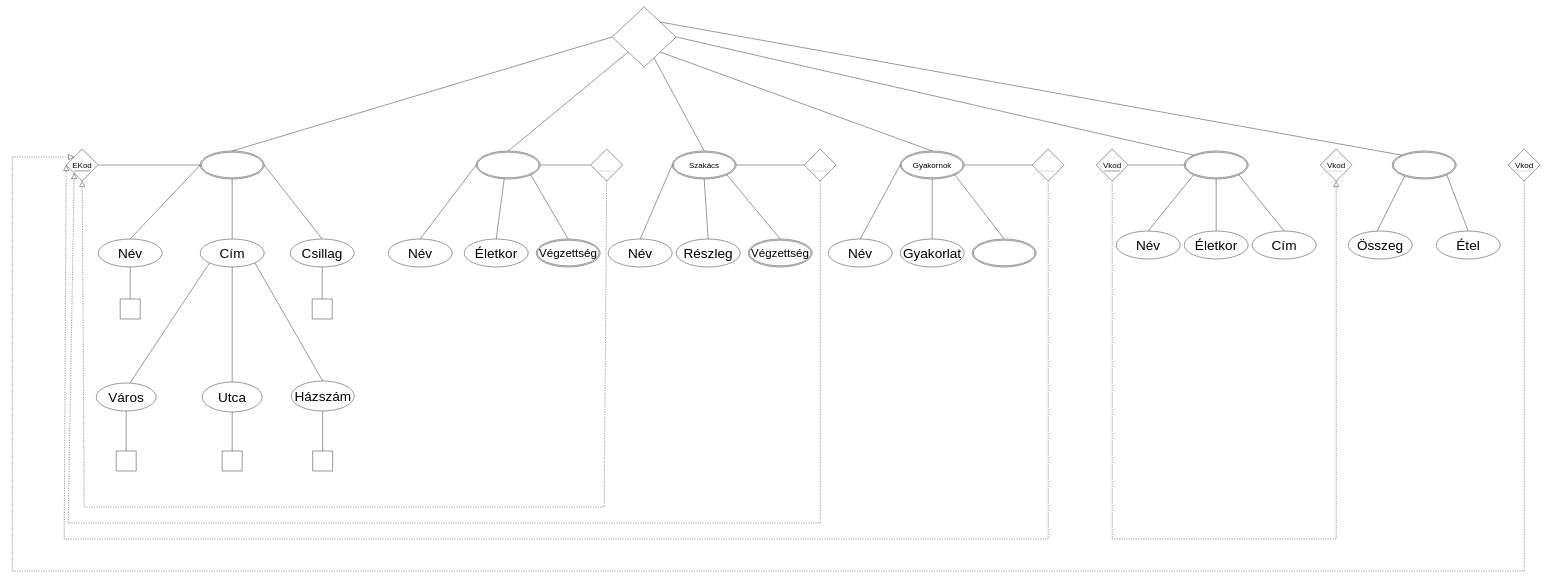
Image size: 1547x584. Some labels were removed from this diagram. The centre of each missing label's shape, as x and y in pixels:
"EGy" belongs at point 1048,165.
"ESz" belongs at point 820,165.
"Fkód" belongs at point 606,165.
"Főszakács" belongs at point 508,165.
"Műszak" belongs at point 1004,253.
"Rendelés" belongs at point 1424,165.
"Vendég" belongs at point 1216,165.
"Vendéglátás" belongs at point 644,37.
"Étterem" belongs at point 232,165.
